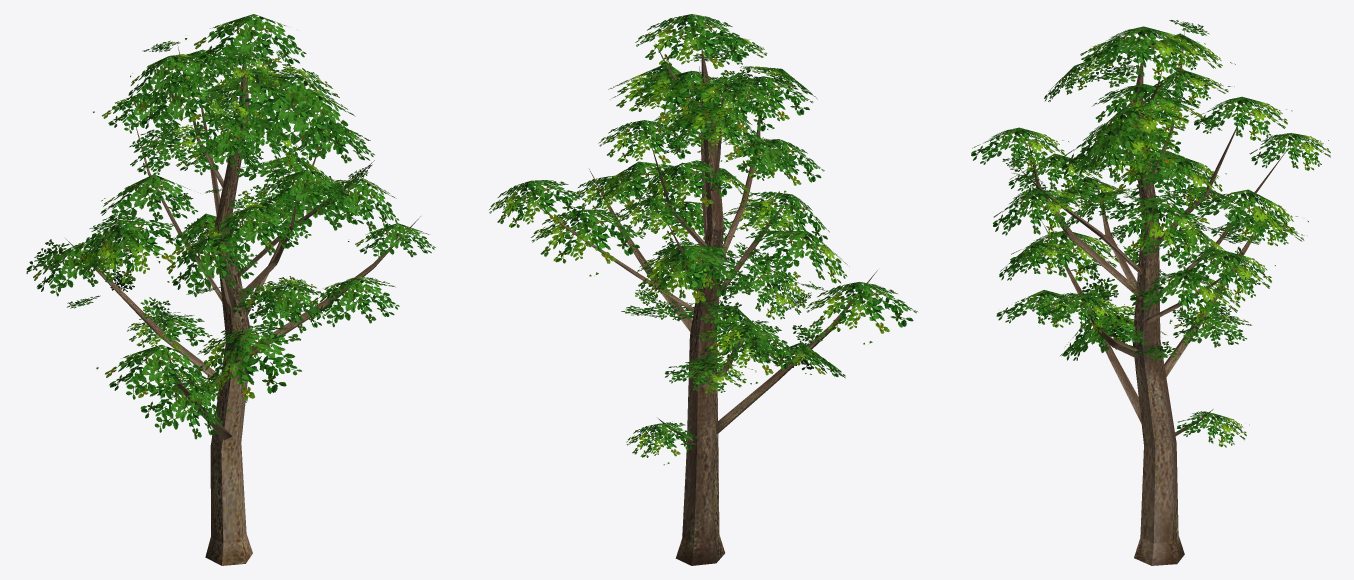
The model's file is shu.FBX.
3 renders of one model, left to right at view 1: azimuth 30°, elevation 25°; view 2: azimuth 150°, elevation 25°; view 3: azimuth 270°, elevation 25°, orthographic. The views are drawn at different scales.
Parts seen in each view (by area): view 1: 01shu_init; view 2: 01shu_init; view 3: 01shu_init.
Boxes of the visible parts, left/top/right/bottom form: 01shu_init: left=26, top=14, right=435, bottom=565; 01shu_init: left=489, top=14, right=917, bottom=565; 01shu_init: left=971, top=20, right=1330, bottom=565.
Size of the model in its own units: 400 by 573 by 369.
